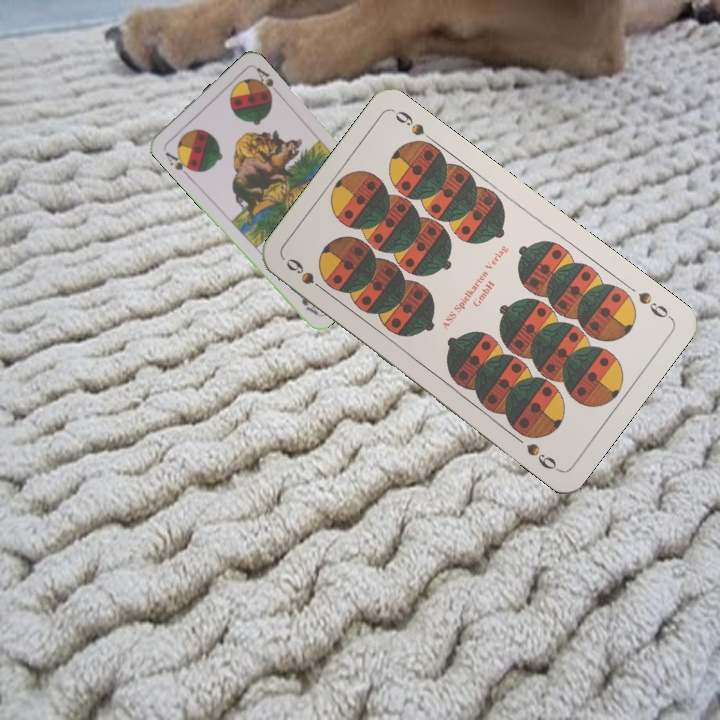S9: (281, 254, 332, 297), (634, 287, 675, 322)
SA: (161, 147, 196, 178)
